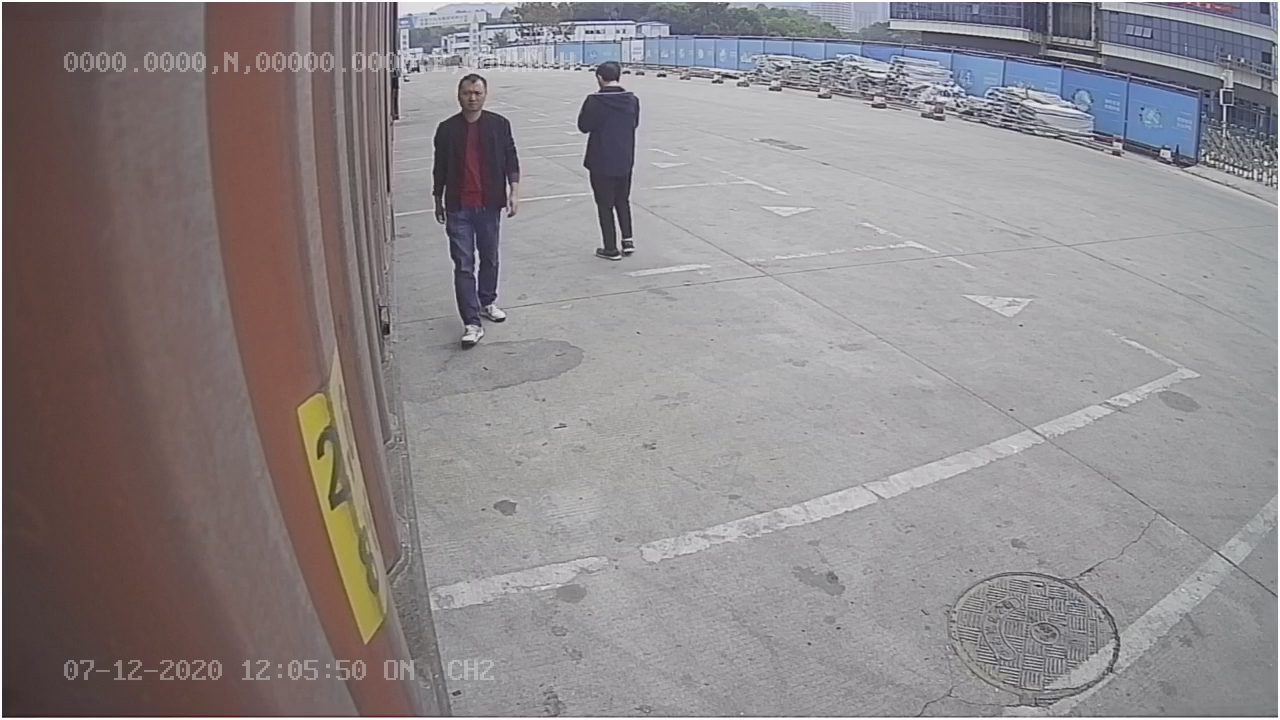person: (430, 70, 520, 347)
